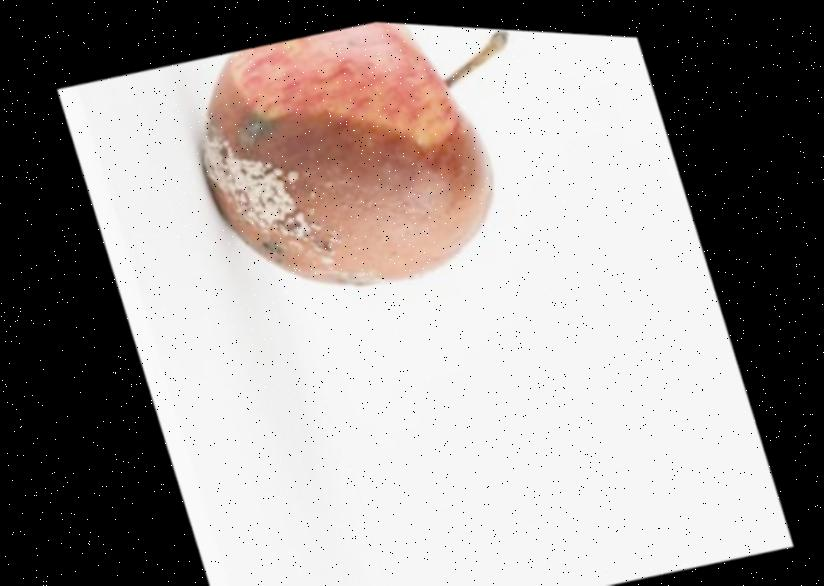ROT: (146, 9, 578, 338)
